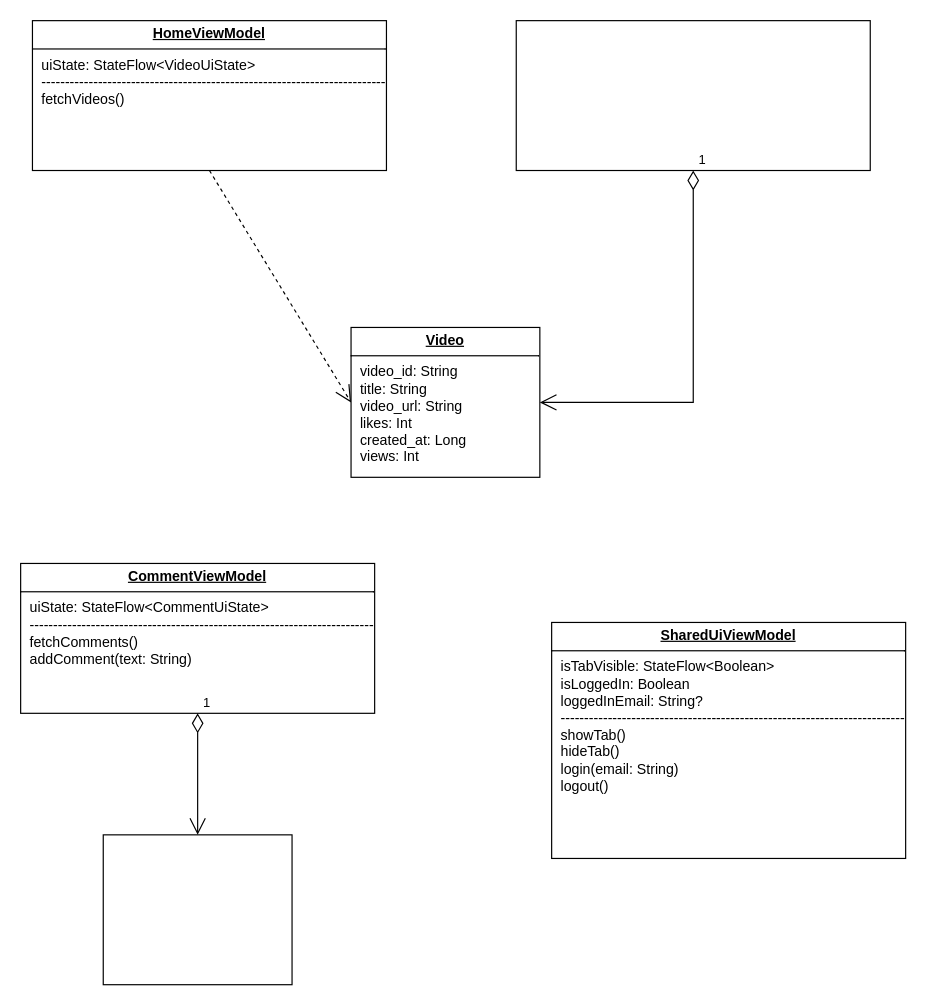
Image size: 926x1005. Some labels were removed from this diagram. Each missing label, with the centre of its shape:
Comment id: String user: String content: String like: Int imageUrl: String?: point 197,909
DiscoverViewModel videoList: List<Video>: point 692,95
